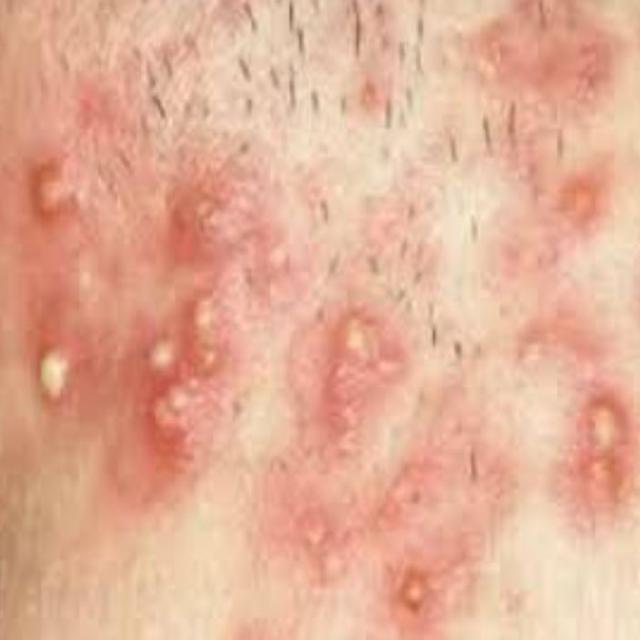pustule: (9, 146, 265, 501), (324, 289, 408, 486), (552, 364, 638, 528)
